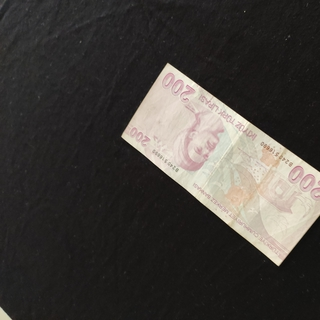200TLBack: (120, 62, 320, 267)
